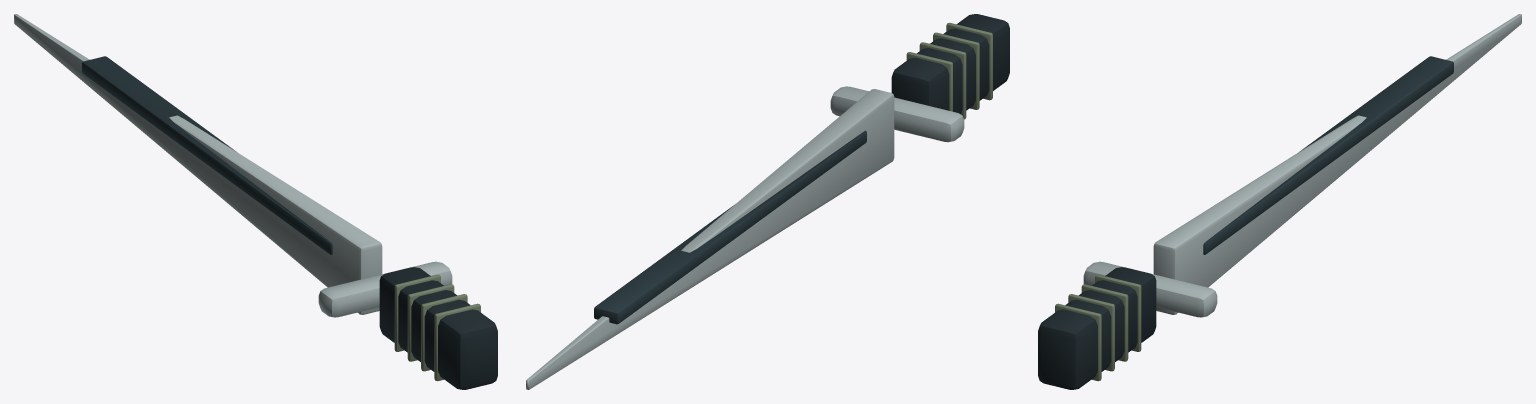
File: kf-weapon-sword.glb
The picture shows the model from 3 angles, left to right: view 1: azimuth 30°, elevation 25°; view 2: azimuth 150°, elevation 25°; view 3: azimuth 330°, elevation 25°; orthographic projection.
Parts seen in each view (by area): view 1: Weapon Machined steel, Weapon Grip rubber, Weapon Gunmetal, Weapon Painted receiver; view 2: Weapon Machined steel, Weapon Grip rubber, Weapon Gunmetal, Weapon Painted receiver; view 3: Weapon Machined steel, Weapon Grip rubber, Weapon Gunmetal, Weapon Painted receiver.
Boxes of the visible parts, box(x1,y1,x2,y2) form: Weapon Machined steel: box(14, 14, 452, 317); Weapon Grip rubber: box(379, 267, 497, 389); Weapon Gunmetal: box(82, 56, 332, 254); Weapon Painted receiver: box(394, 274, 480, 381); Weapon Machined steel: box(526, 86, 964, 389); Weapon Grip rubber: box(891, 14, 1009, 113); Weapon Gunmetal: box(594, 130, 866, 324); Weapon Painted receiver: box(906, 22, 992, 119); Weapon Machined steel: box(1083, 14, 1521, 317); Weapon Grip rubber: box(1038, 267, 1156, 389); Weapon Gunmetal: box(1203, 56, 1453, 254); Weapon Painted receiver: box(1055, 274, 1141, 381).
Size of the model in its own units: 0.19 by 0.0999 by 1.22.
